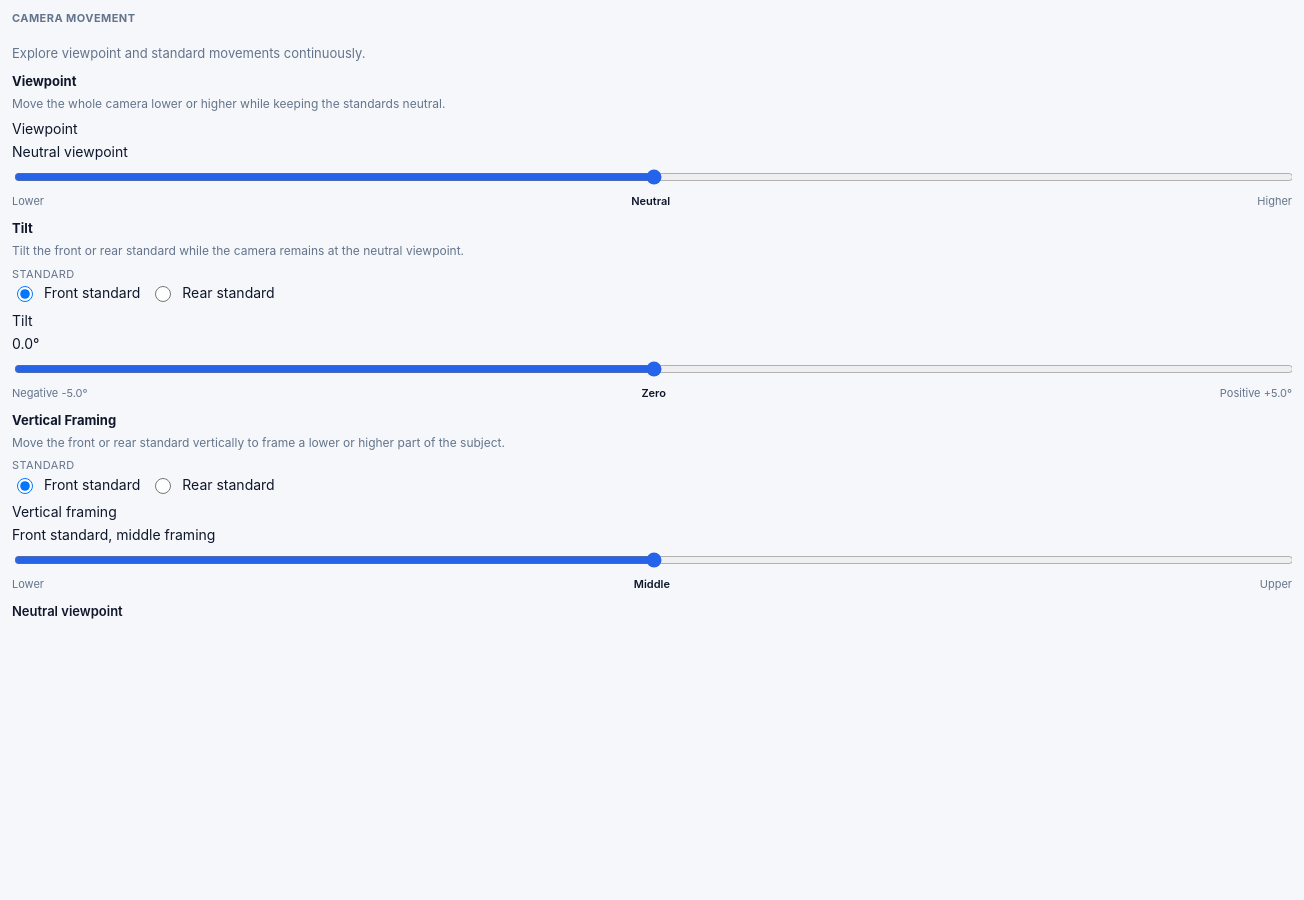
CameraMovementTeachingControls › keeps negative Tilt signed and does not mix in viewpoint or framing
Click the 1st radio button labelled "Rear standard": (163, 294) [155,286,171,302]
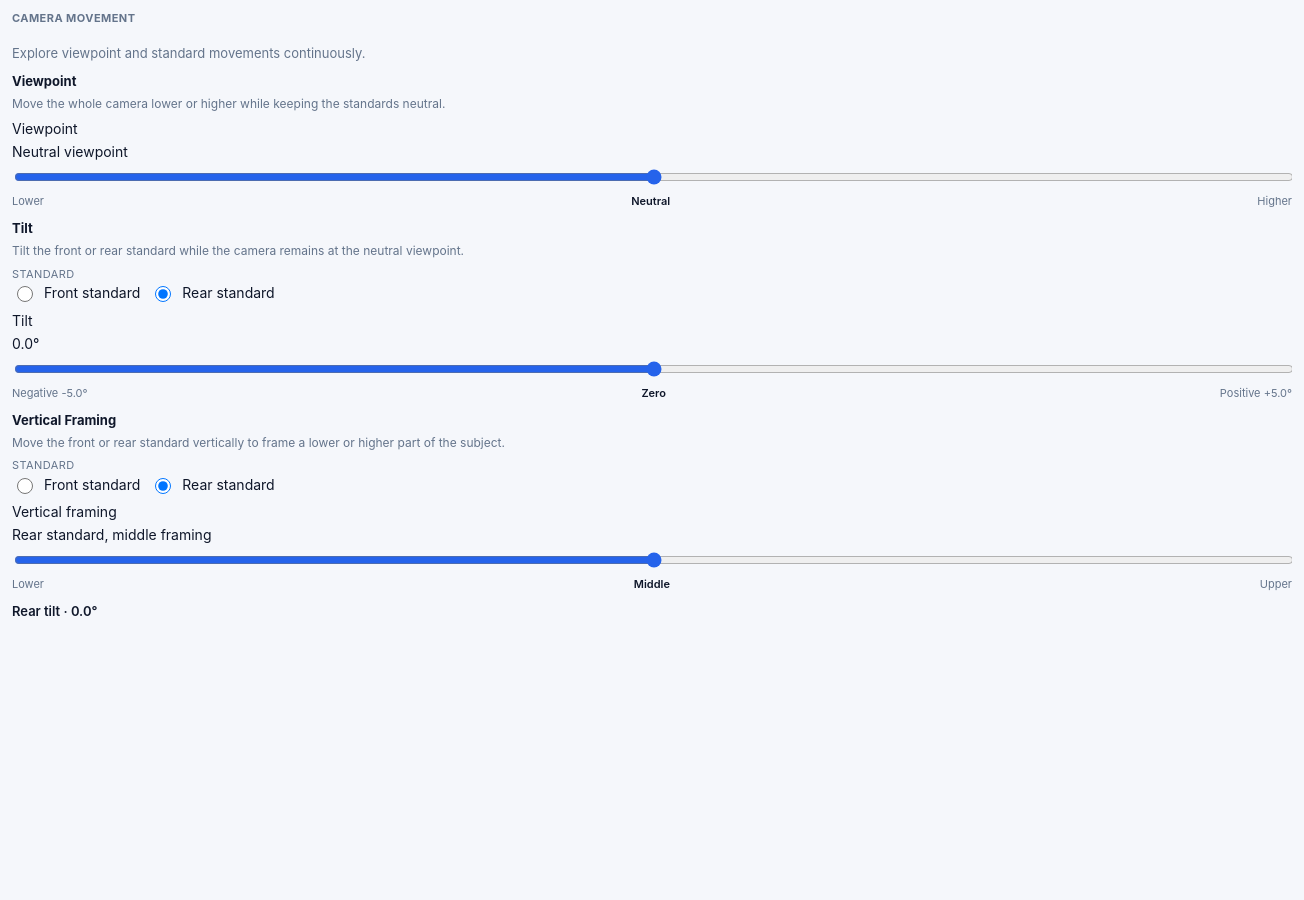
Set the slider labelled "Tilt" to "-3.2": (249, 369) [14,361,1292,377]
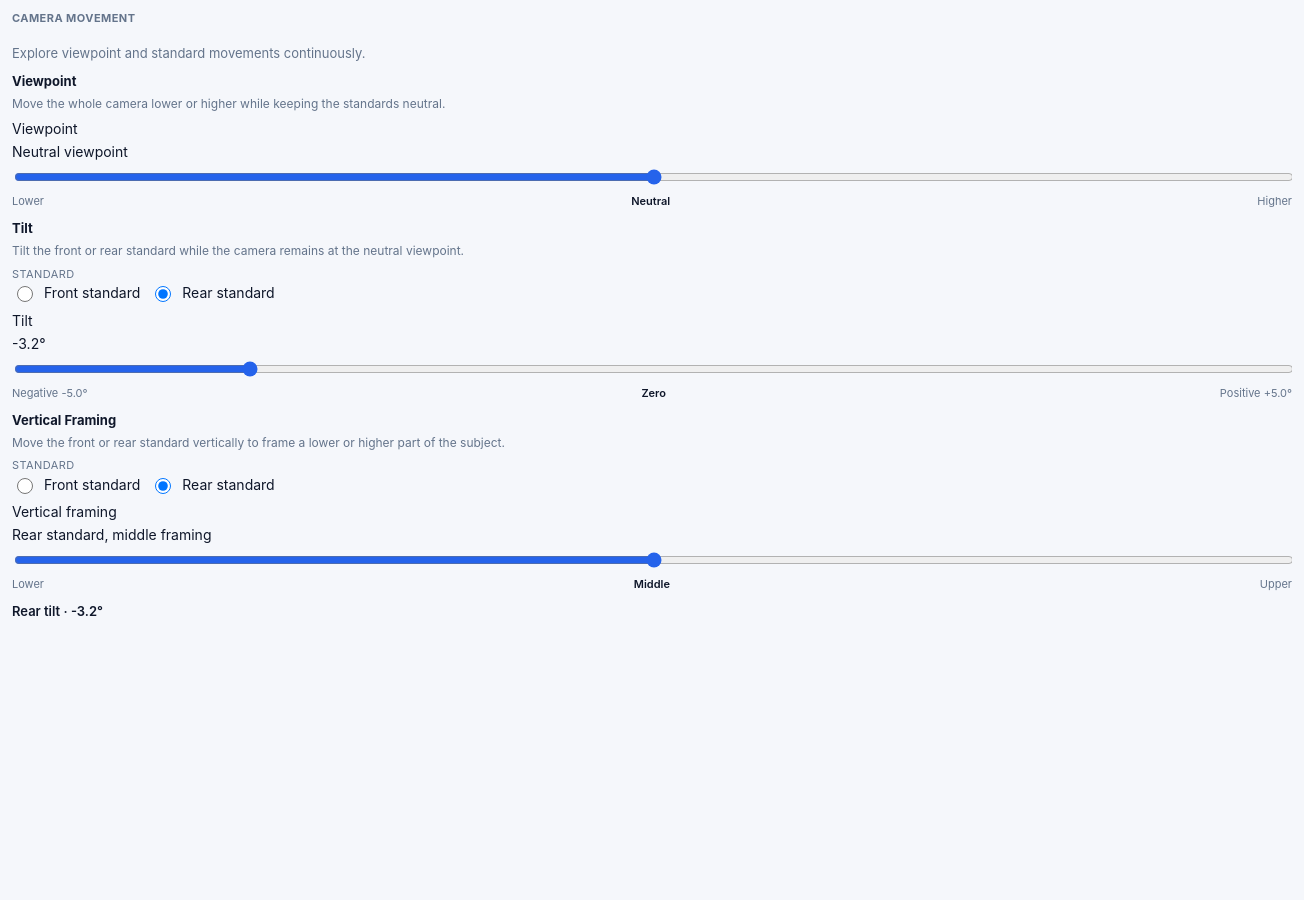
Now the message reads "Rear tilt · -3.2°", box [12,603,103,619]
